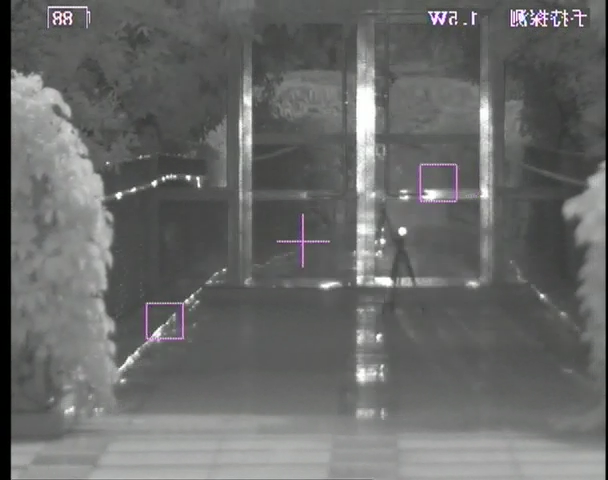my: (396, 226, 408, 236)
